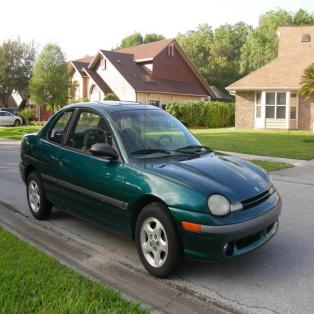Auto: (19, 97, 284, 279)
